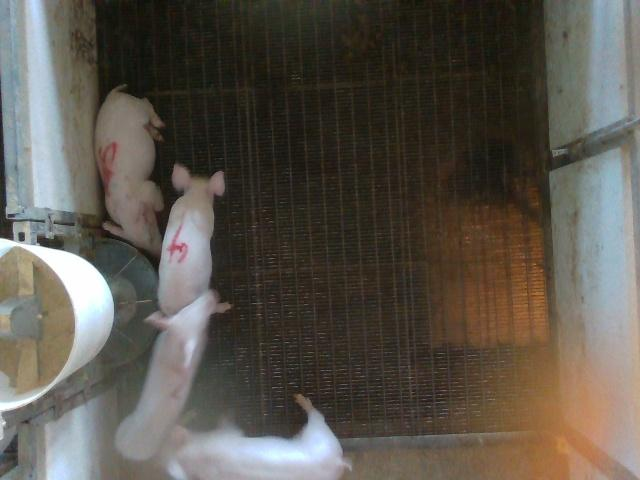pig-2: (115, 290, 225, 459)
pig-4: (158, 165, 225, 316)
pig-5: (95, 85, 165, 256)
